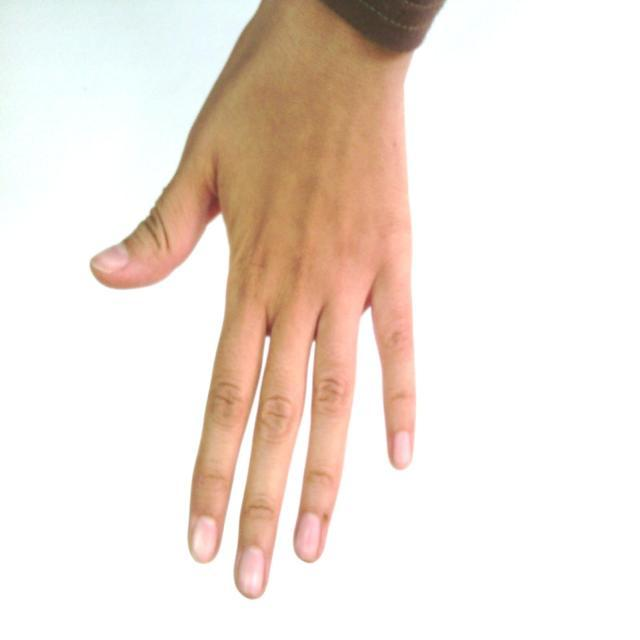Fingernail: (239, 547, 264, 597), (296, 513, 320, 560), (193, 517, 218, 562), (93, 245, 129, 273), (394, 432, 411, 467)
